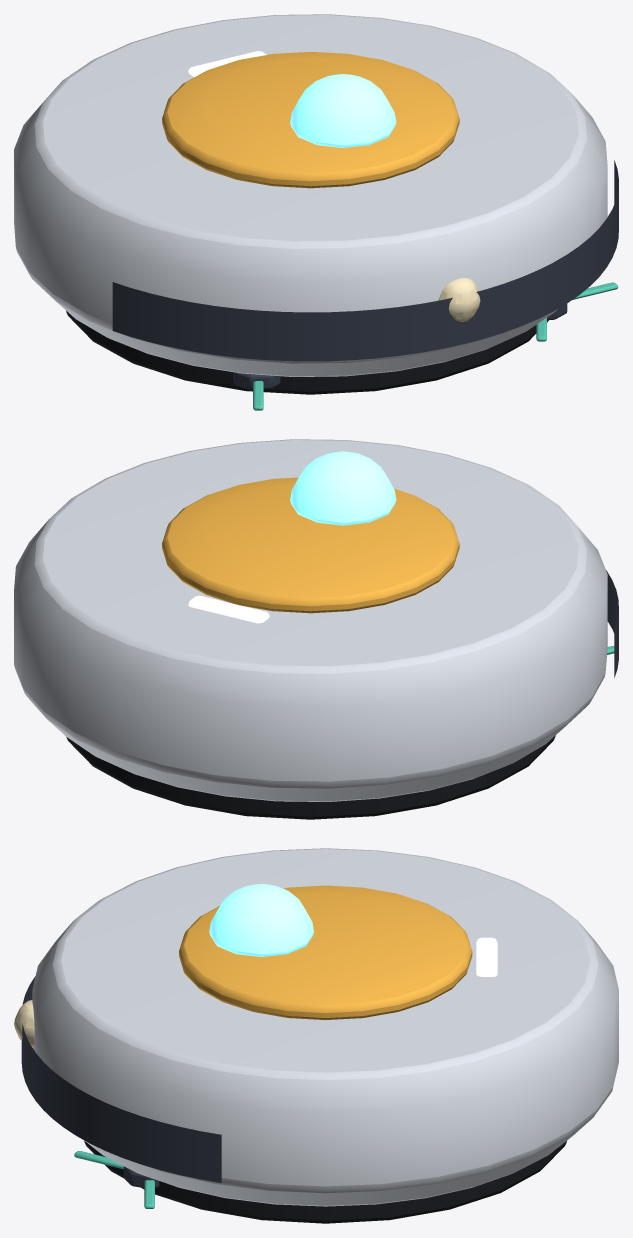
The model's file is staubi.fbx.
3 views of the same model, one above another, from view 1: azimuth 30°, elevation 25°; view 2: azimuth 150°, elevation 25°; view 3: azimuth 270°, elevation 25° (orthographic).
Parts seen in each view (by area): view 1: staubi_Koerper, staubi_Werkzeug; view 2: staubi_Koerper; view 3: staubi_Koerper, staubi_Werkzeug.
Part boxes in pixels (x1=…): staubi_Koerper: x1=14, y1=14, x2=618, y2=394; staubi_Werkzeug: x1=233, y1=282, x2=618, y2=410; staubi_Koerper: x1=14, y1=439, x2=618, y2=819; staubi_Koerper: x1=14, y1=848, x2=618, y2=1223; staubi_Werkzeug: x1=74, y1=1151, x2=159, y2=1208.
Size of the model in its own units: 1.1 by 0.48 by 1.13.
